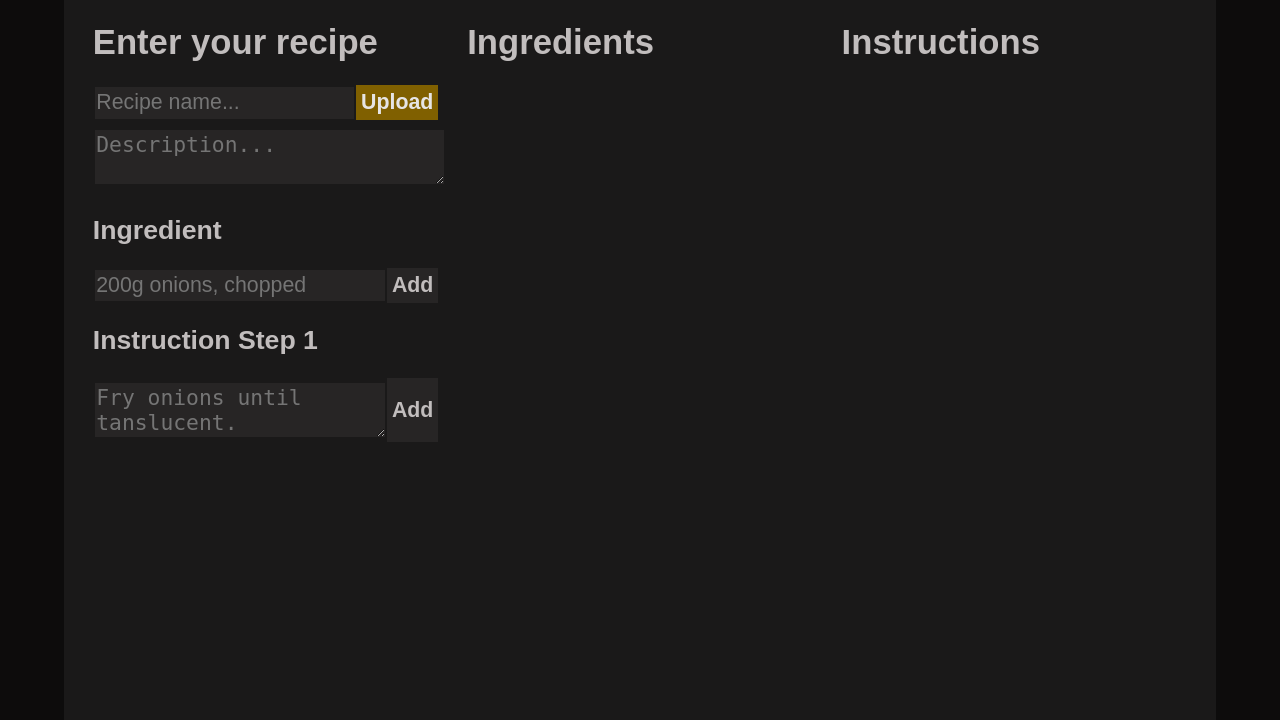
Test: Upload › should add of typed ingredient to the DynamicEditList and activate edit mode
The width and height of the screenshot is (1280, 720).
Type "1 large egg" into the field with test id "currIngredient" at (240, 286), box top-left (94, 270), bottom-right (385, 301)
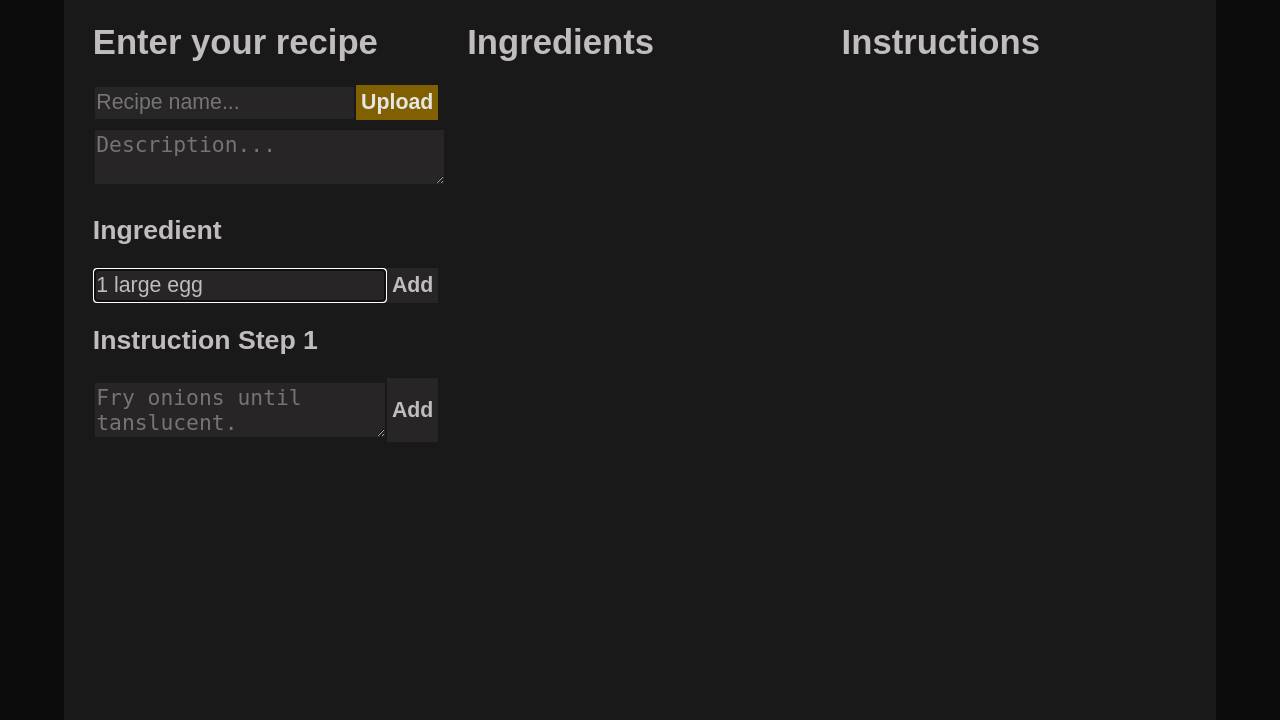
Click the button with test id "addIngredient-btn" at (413, 286), box top-left (387, 268), bottom-right (438, 303)
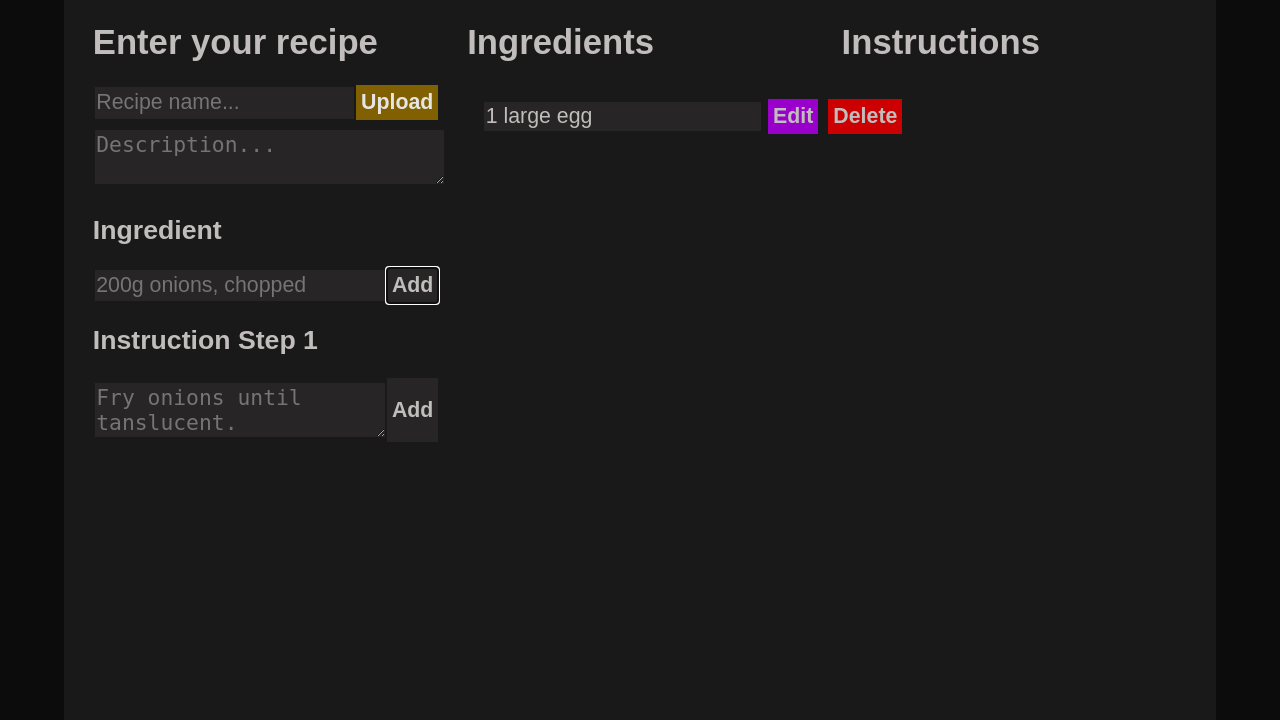
Click the button "Edit" at (793, 116), box top-left (768, 99), bottom-right (818, 134)
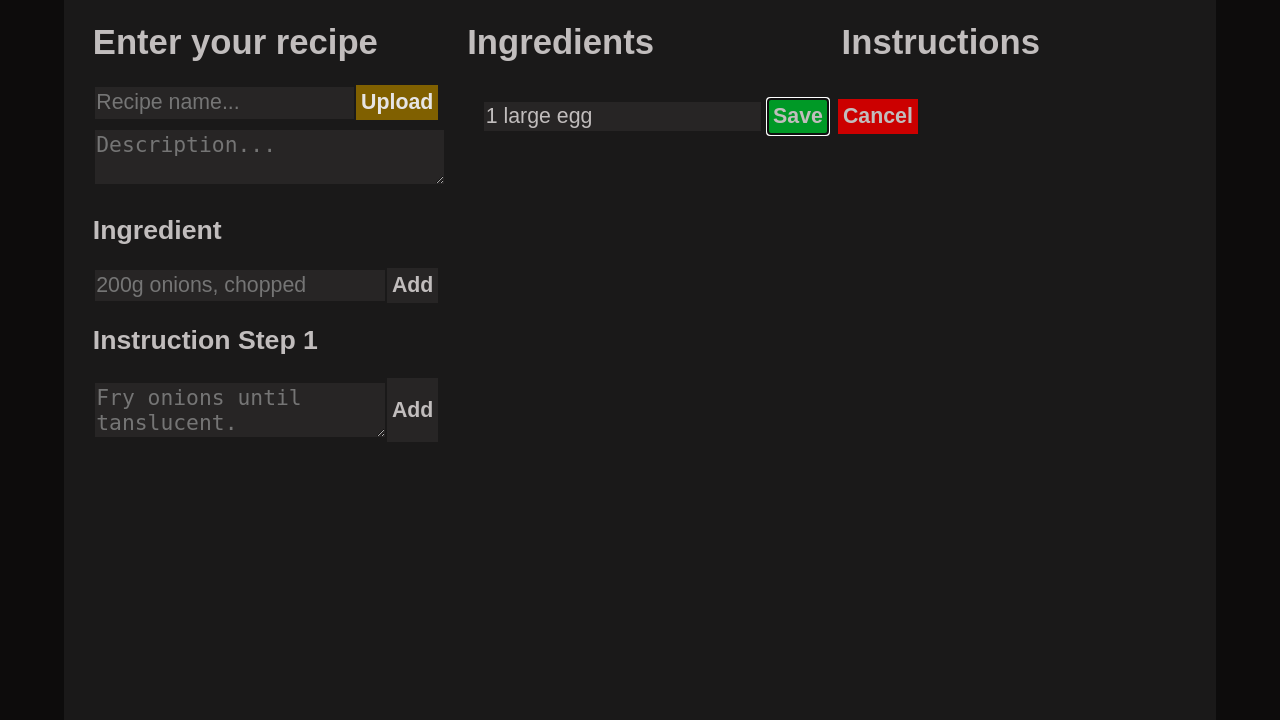
expect the field with test id "currIngredient" is empty: met, box top-left (94, 270), bottom-right (385, 301)
expect the field showing "1 large egg" is shown: met, box top-left (484, 102), bottom-right (761, 131)
expect the button "Edit" is gone: met
